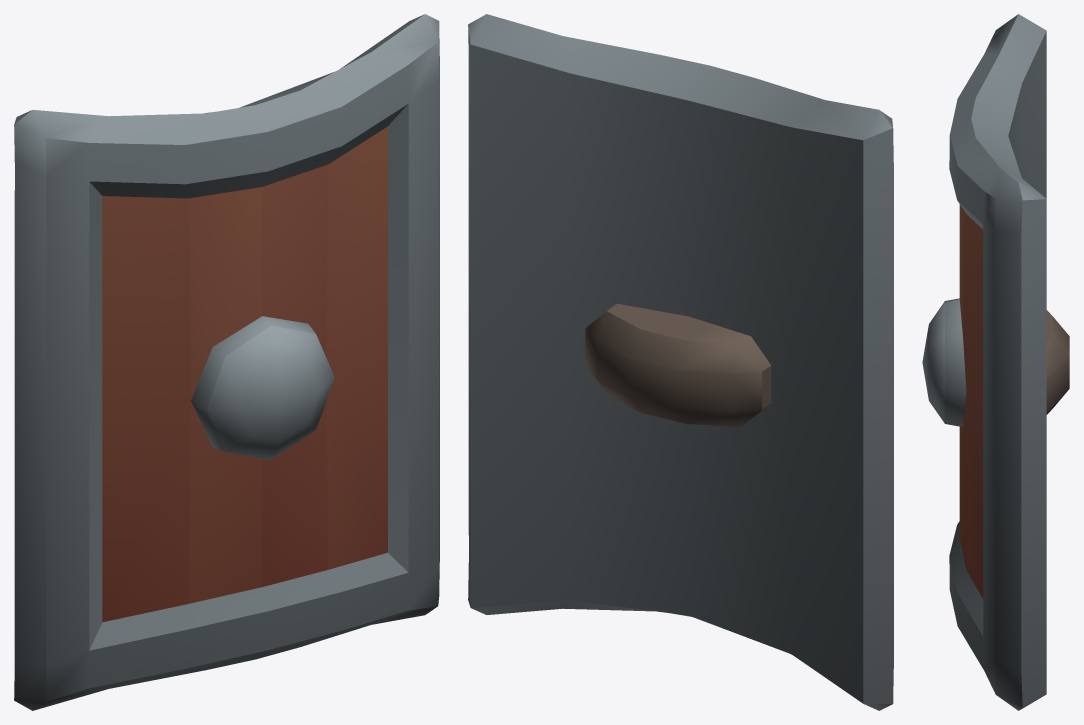
Rendered from gear-shield-square.glb.
3 views of the same model, side by side, from view 1: azimuth 30°, elevation 25°; view 2: azimuth 150°, elevation 25°; view 3: azimuth 270°, elevation 25° (orthographic). The views are drawn at different scales.
Parts seen in each view (by area): view 1: shield_square; view 2: shield_square; view 3: shield_square.
Boxes of the visible parts, x1,y1,x2,y2 form: shield_square: [14, 14, 439, 710]; shield_square: [468, 14, 893, 710]; shield_square: [922, 14, 1069, 710].
Bounding box in the file's own units: 0.8826 × 1.19 × 0.3011.
